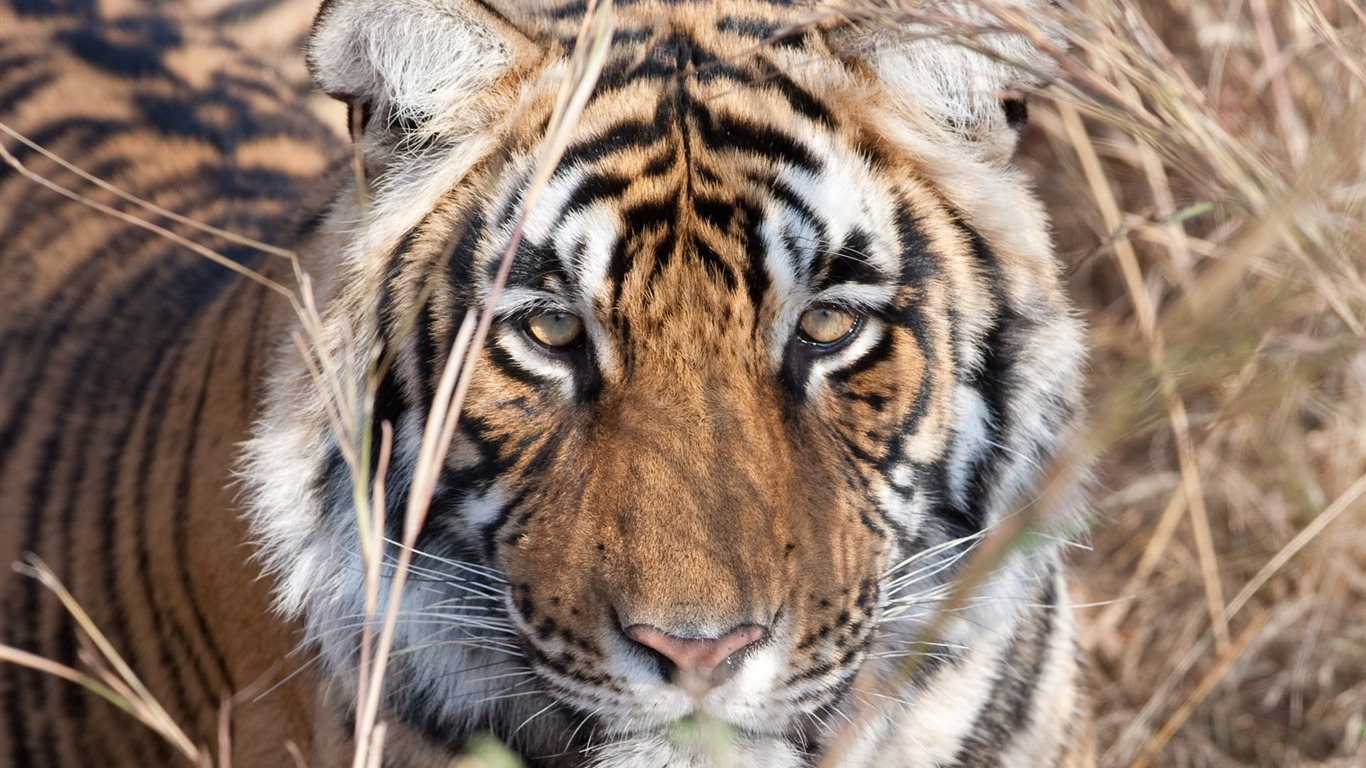Tigrew: (240, 4, 1149, 757)
